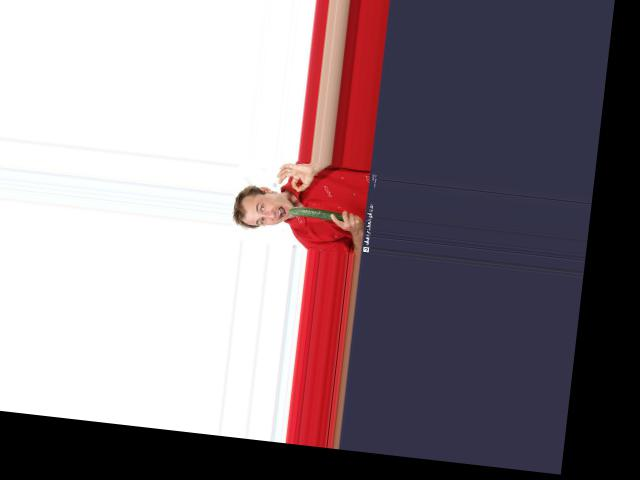cucumber: (288, 206, 343, 220)
